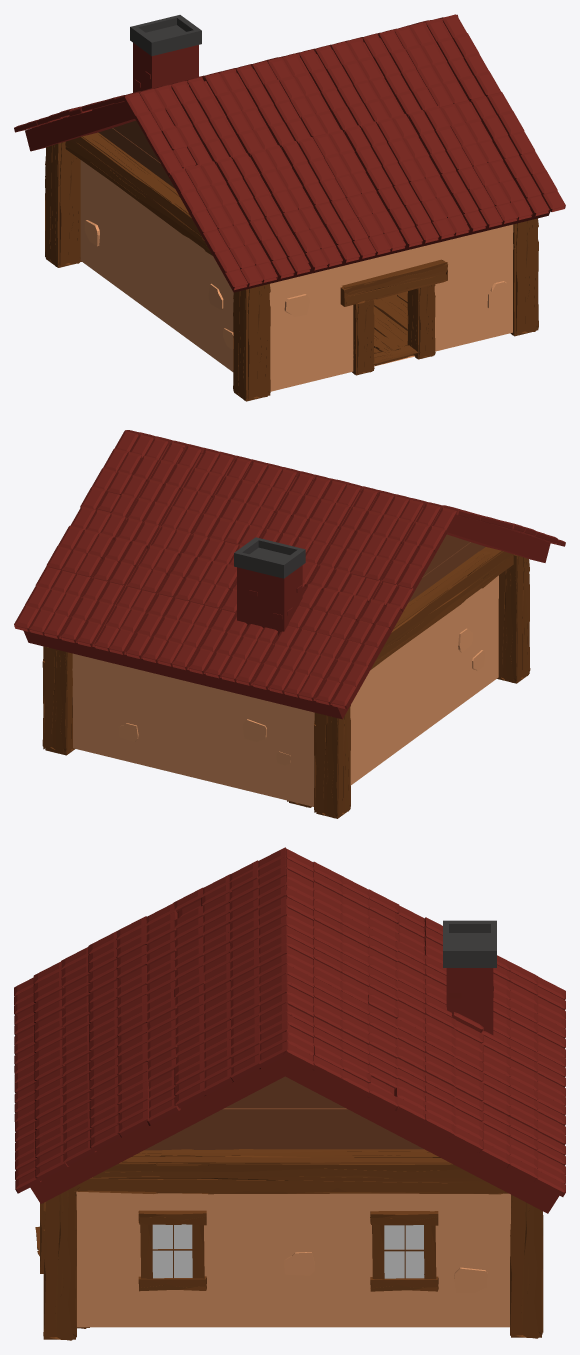
Rendered from CHouse2.fbx.
The picture shows the model from 3 angles, top to bottom: view 1: azimuth 30°, elevation 25°; view 2: azimuth 150°, elevation 25°; view 3: azimuth 270°, elevation 25°; orthographic projection. The views are drawn at different scales.
Parts seen in each view (by area): view 1: Cube.011, Cube.013, Cube.264, Cube.249, Cube.253, Cube.016, Cube.017, Cube.256, Cube.149, Cube.208, Cube.763, Cube.255 (+11 smaller); view 2: Cube.012, Cube.013, Cube.016, Cube.149, Cube.264, Cube.017, Cube.254, Cube.238, Cube.208, Cube.251, Cube.252, Cube.263 (+4 smaller); view 3: Cube.014, Cube.257, Cube.016, Cube.017, Cube.246, Cube.258, Cube.025, Cube.237, Cube.026, Cube.208, Cube.149, Cube.220 (+12 smaller).
Part boxes in pixels (x1,y1,x2,y2): Cube.011: [269, 224, 513, 391]; Cube.013: [80, 160, 233, 371]; Cube.264: [65, 136, 212, 255]; Cube.249: [516, 218, 538, 333]; Cube.253: [248, 284, 270, 399]; Cube.016: [25, 101, 135, 151]; Cube.017: [168, 23, 550, 292]; Cube.256: [59, 141, 81, 265]; Cube.149: [133, 43, 198, 92]; Cube.208: [130, 15, 201, 55]; Cube.763: [344, 262, 447, 304]; Cube.255: [45, 144, 59, 267]; Cube.012: [72, 653, 314, 806]; Cube.013: [350, 575, 498, 785]; Cube.016: [23, 445, 447, 719]; Cube.149: [237, 565, 302, 635]; Cube.264: [370, 551, 513, 669]; Cube.017: [447, 515, 550, 562]; Cube.254: [315, 713, 337, 818]; Cube.238: [43, 647, 66, 752]; Cube.208: [234, 537, 305, 578]; Cube.251: [498, 567, 516, 682]; Cube.252: [515, 556, 530, 681]; Cube.263: [393, 551, 492, 629]; Cube.014: [76, 1191, 510, 1327]; Cube.257: [77, 1163, 505, 1193]; Cube.016: [285, 1057, 559, 1213]; Cube.017: [30, 1056, 295, 1203]; Cube.246: [44, 1187, 76, 1340]; Cube.258: [121, 1149, 451, 1163]; Cube.025: [144, 1132, 423, 1150]; Cube.237: [510, 1195, 542, 1338]; Cube.026: [178, 1108, 391, 1132]; Cube.208: [443, 920, 496, 967]; Cube.149: [446, 968, 493, 1034]; Cube.220: [384, 1225, 424, 1278].
Bounding box in the file's own units: 1442 × 993 × 1650.
